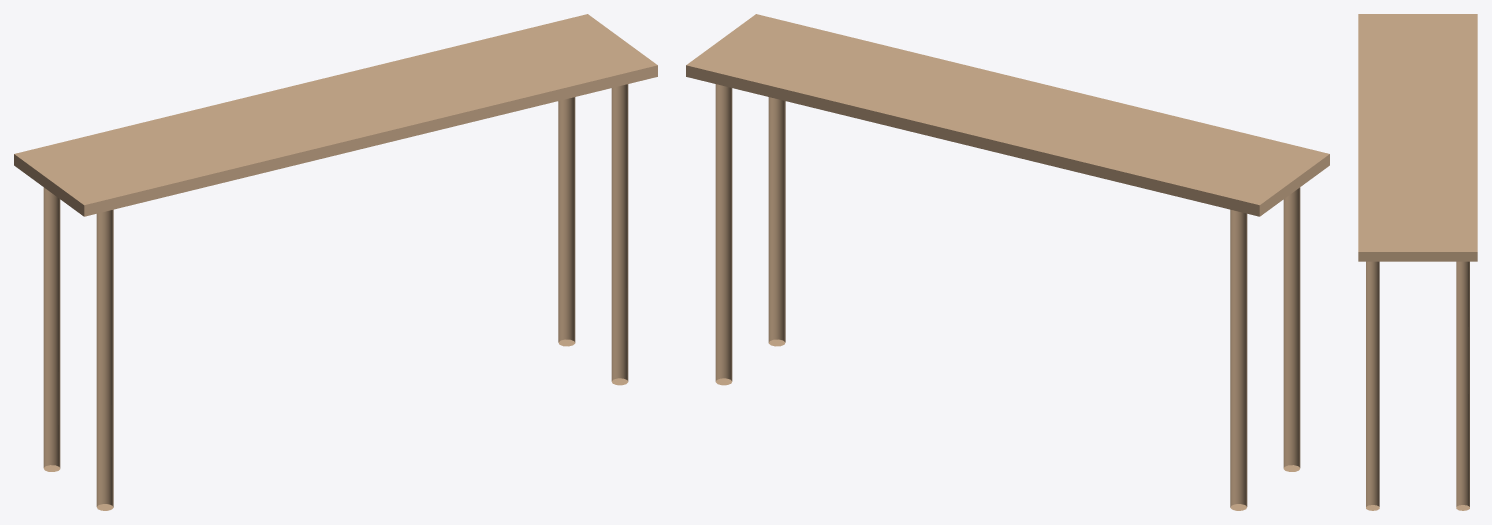
File: console_table_07.glb
3 views of the same model, side by side, from view 1: azimuth 30°, elevation 25°; view 2: azimuth 150°, elevation 25°; view 3: azimuth 270°, elevation 25° (orthographic). The views are drawn at different scales.
Size of the model in its own units: 1.56 by 0.82 by 0.33.
